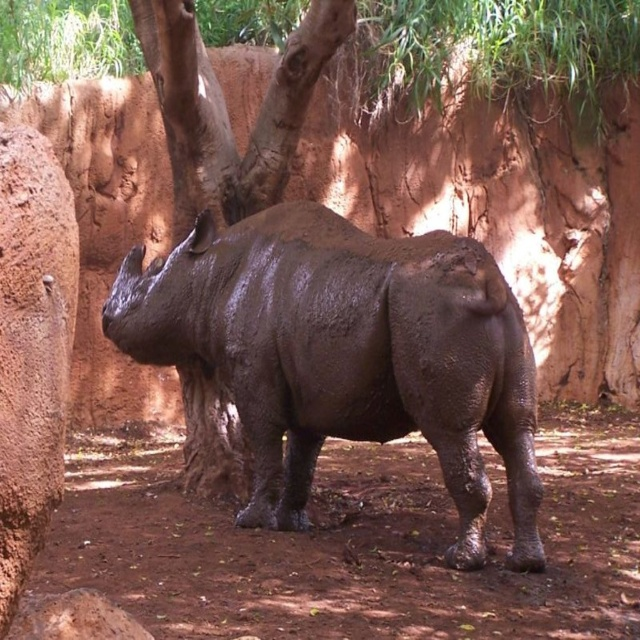Rhinoceros: (98, 191, 548, 573)
